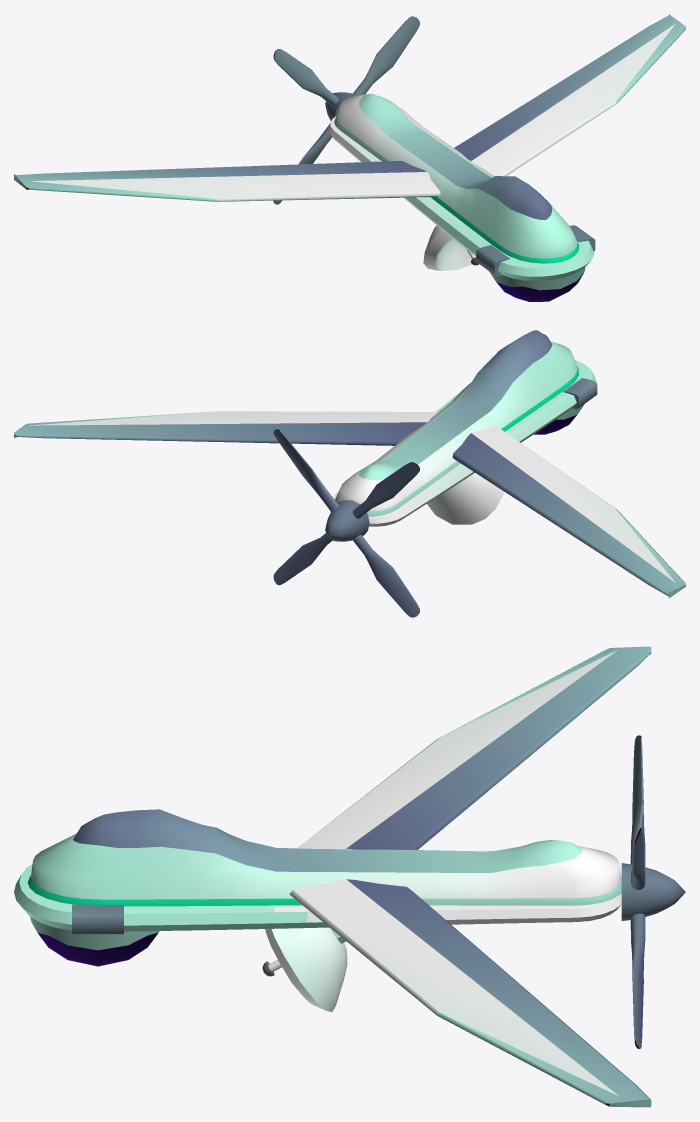
File: CLIPMesh.glb
3 views of the same model, one above another, from view 1: azimuth 30°, elevation 25°; view 2: azimuth 150°, elevation 25°; view 3: azimuth 270°, elevation 25° (orthographic). The views are drawn at different scales.
Parts seen in each view (by area): view 1: ClipDroneN; view 2: ClipDroneN; view 3: ClipDroneN.
Boxes of the visible parts, x1,y1,x2,y2 form: ClipDroneN: (14,14,685,301); ClipDroneN: (14,330,685,617); ClipDroneN: (14,646,685,1107).
Size of the model in its own units: 1.94 by 0.4433 by 1.21.
Materials: 1 (1 with a texture image).
